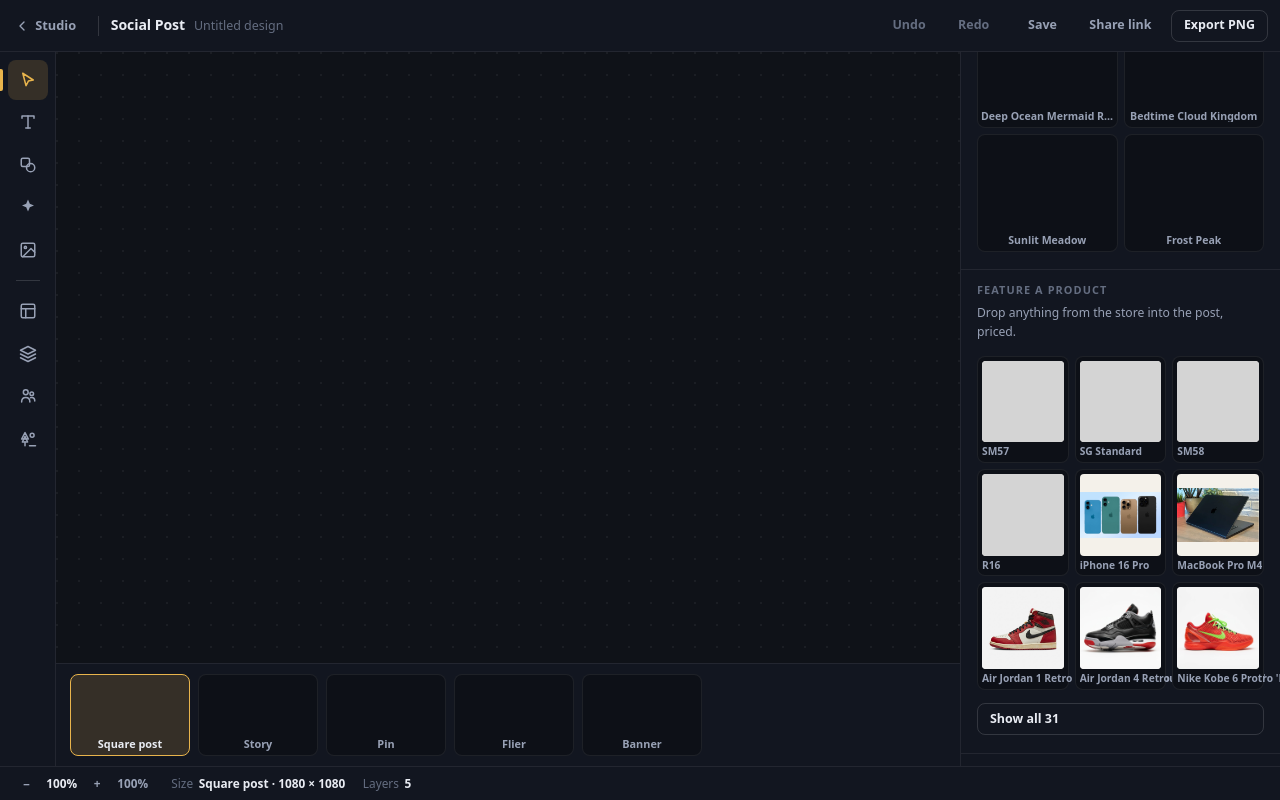
Test: social post designer › swaps the featured product in place, as one undo step
(page scrolled)
Click the button with aria-label "Feature ".
click(1121, 409)  # box [1075,356,1166,463]
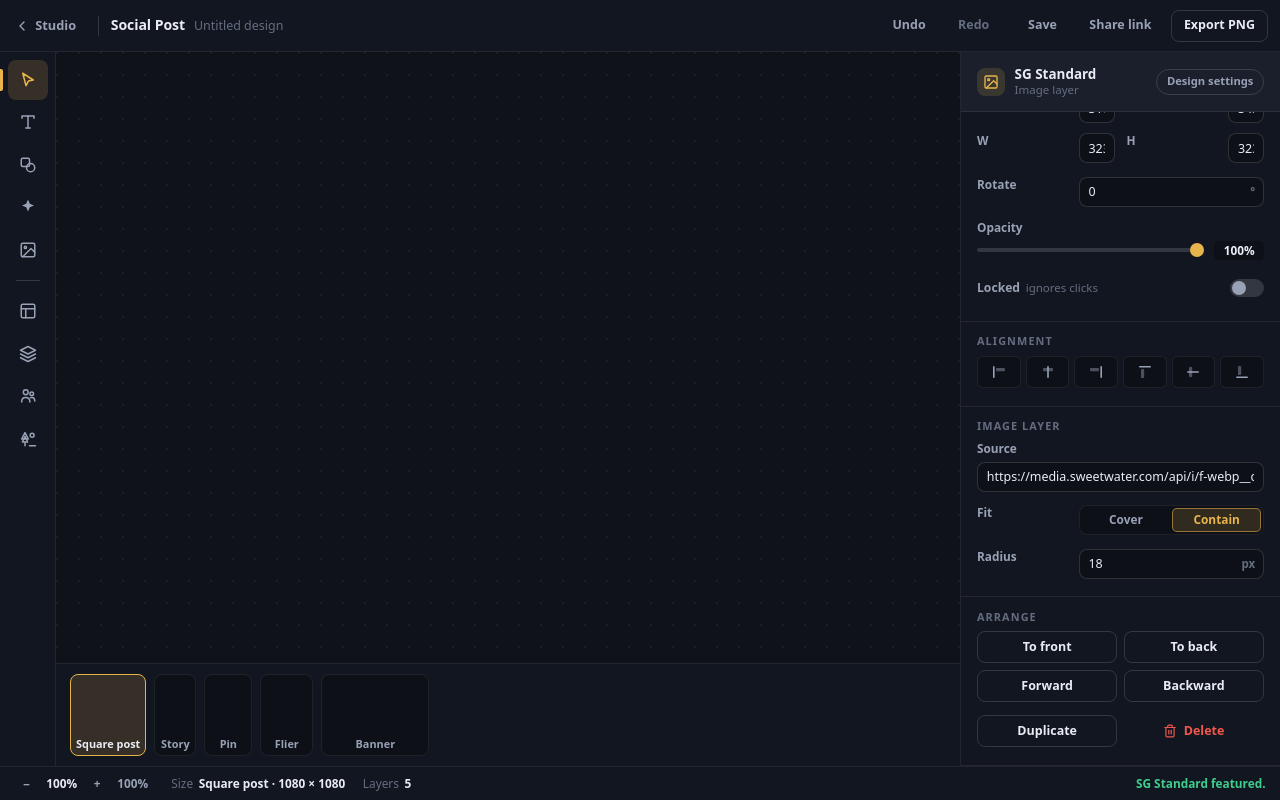
Expected: the button "Undo" is enabled, [879,10,939,42]
